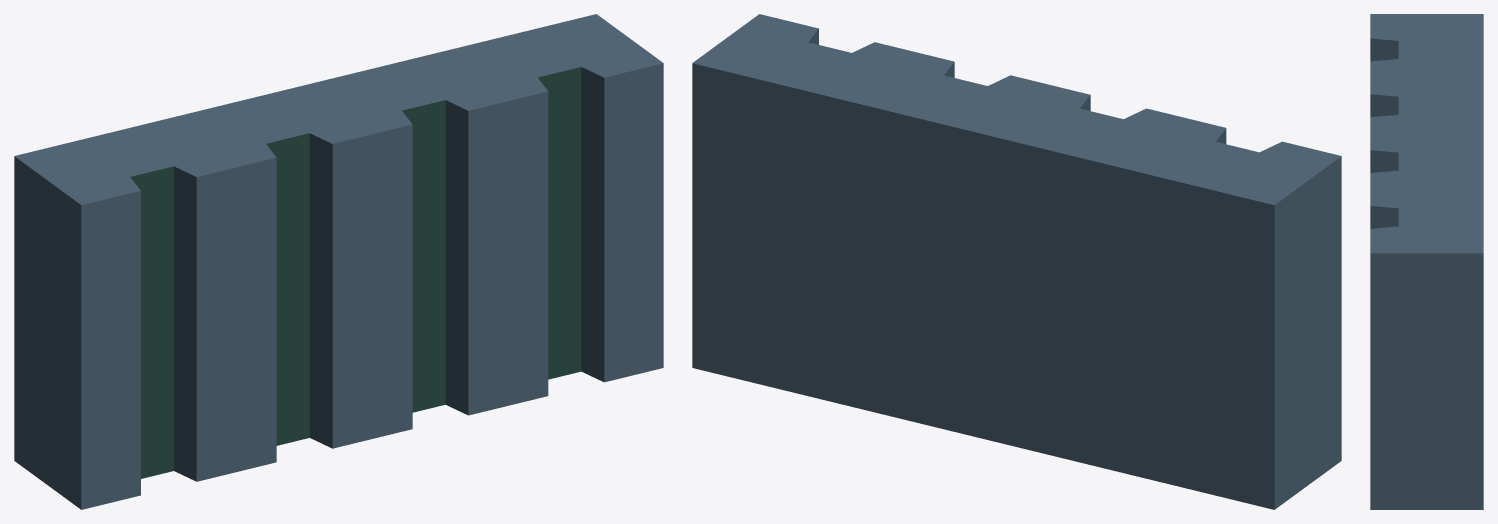
Rendered from W1_Wall_Ridge2_Top.fbx.
3 renders of one model, left to right at view 1: azimuth 30°, elevation 25°; view 2: azimuth 150°, elevation 25°; view 3: azimuth 270°, elevation 25°, orthographic. The views are drawn at different scales.
Visible parts, largest first — view 1: W1_Wall_Ridge2_Top.001; view 2: W1_Wall_Ridge2_Top.001; view 3: W1_Wall_Ridge2_Top.001.
Boxes of the visible parts, <box> form: W1_Wall_Ridge2_Top.001: <box>14,14,663,509</box>; W1_Wall_Ridge2_Top.001: <box>692,14,1341,509</box>; W1_Wall_Ridge2_Top.001: <box>1370,14,1483,509</box>.
Size of the model in its own units: 1 by 0.5 by 0.2.
